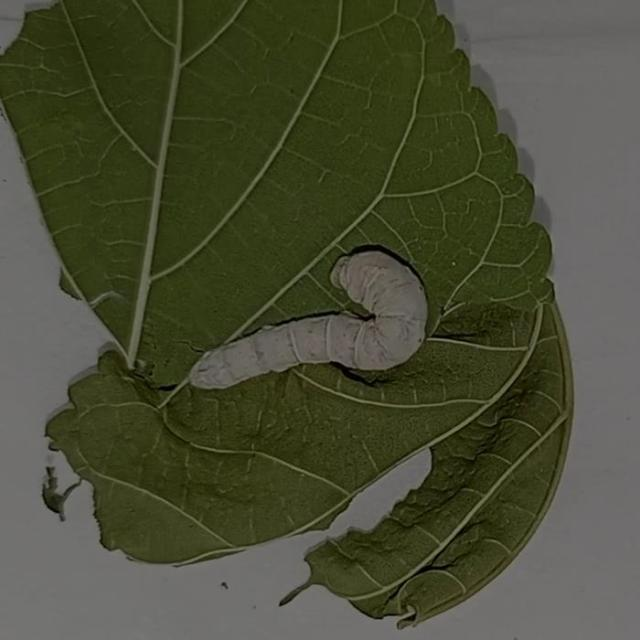Healthy: (171, 230, 455, 402)
